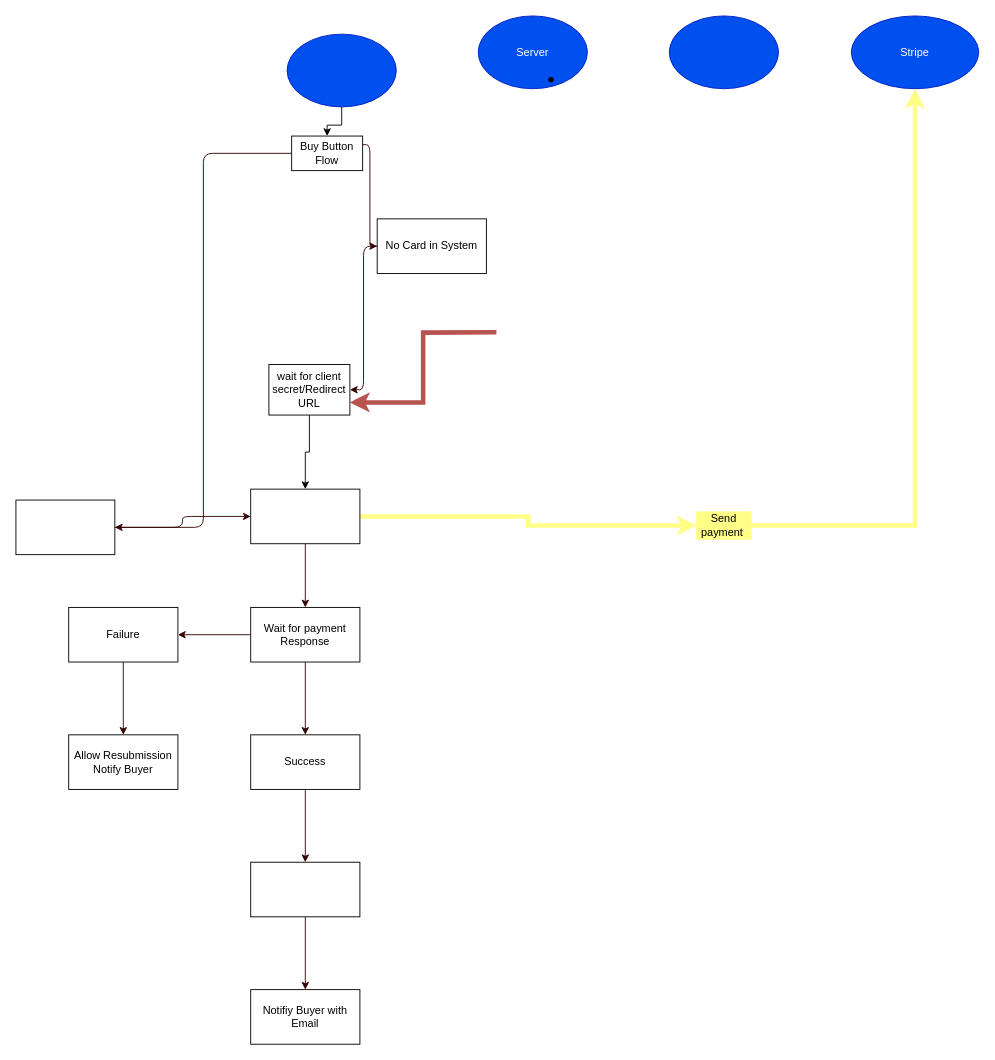
Some shapes in this 995 by 1060 pixel diagram are drawn without their labels. The shapes that lost their labels are listed below. From the top down, each one's box as (x1, y1, x2, y2) in pixels, then its label:
(286, 33, 396, 107): Customer
(668, 15, 779, 89): Firebase
(15, 499, 115, 555): Card Selected
(250, 488, 360, 544): Submit Payment Save Card?
(250, 861, 360, 917): Confirmation Page
